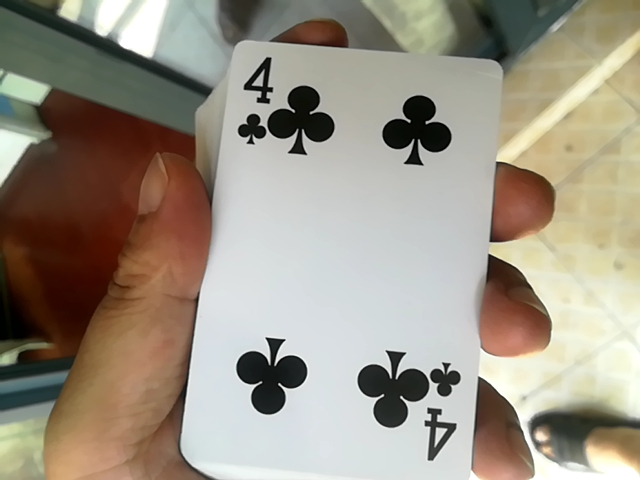mh 4: (178, 15, 498, 470)
